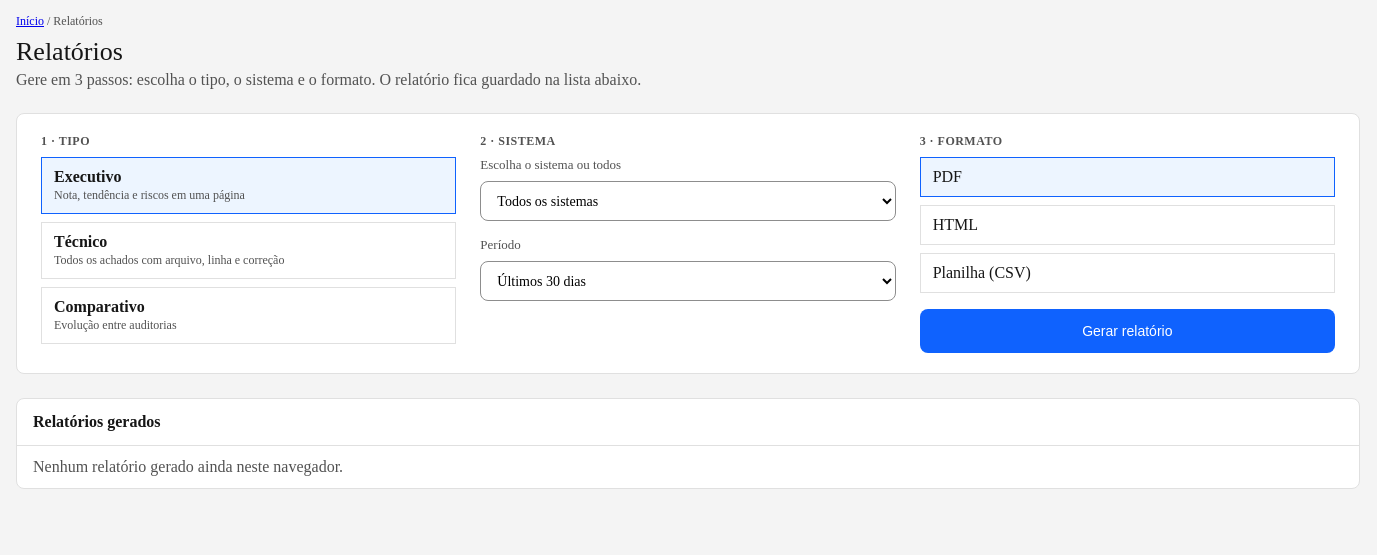
Test: ReportsPage › para um sistema usa a auditoria mais recente e libera o SBOM no técnico
Select "portal" in the dropdown labelled "Escolha o sistema ou todos": (688, 201) top-left (480, 181), bottom-right (896, 221)
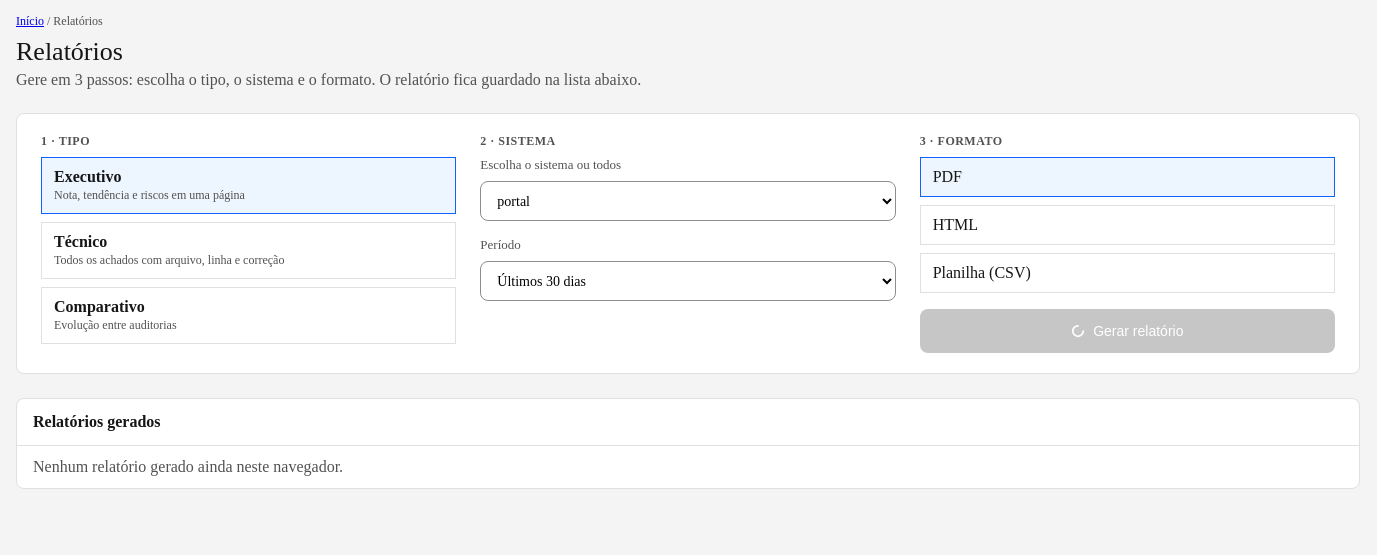
Click the button "Técnico Todos os achados com arquivo, linha e correção": (249, 250) top-left (41, 222), bottom-right (456, 279)
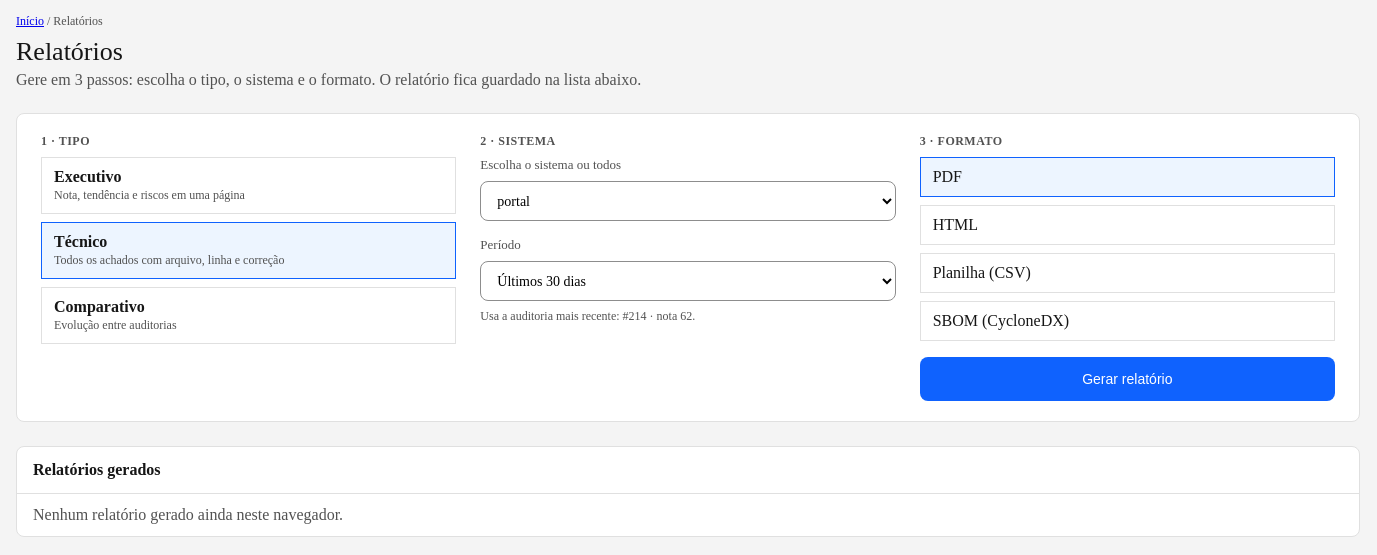
Check: the text "Usa a auditoria mais recente: #214 · nota 62." is shown, box top-left (480, 309), bottom-right (695, 323)
Click the button "SBOM (CycloneDX)": (1001, 320) top-left (920, 301), bottom-right (1335, 341)
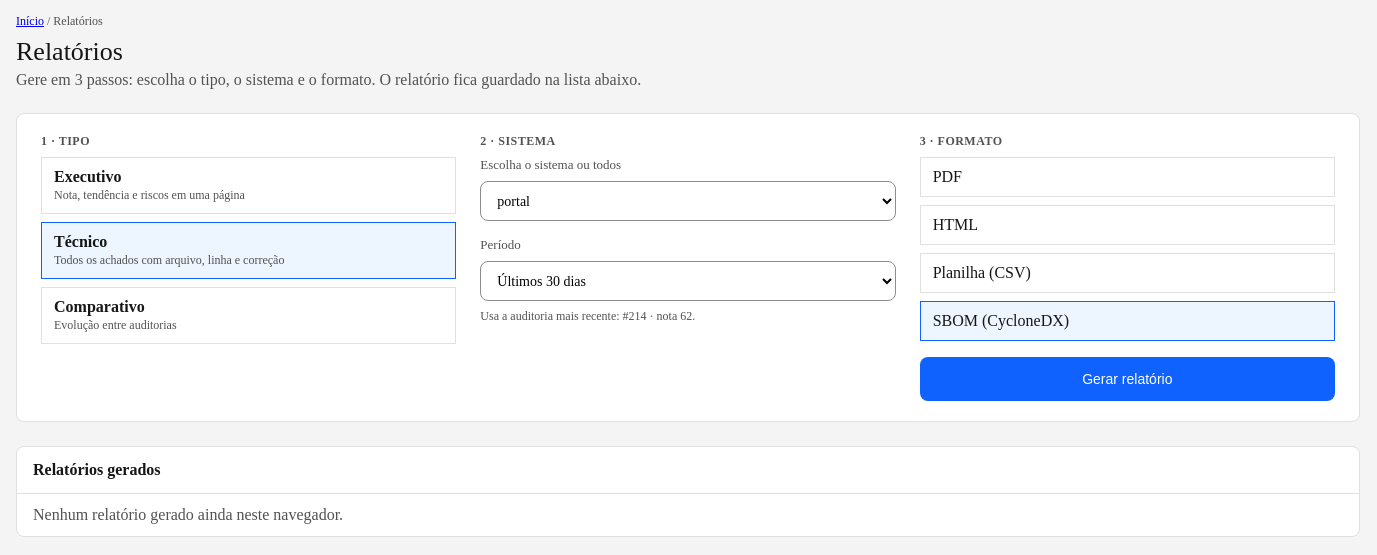
Click the button "Gerar relatório": (1127, 379) top-left (920, 357), bottom-right (1335, 401)
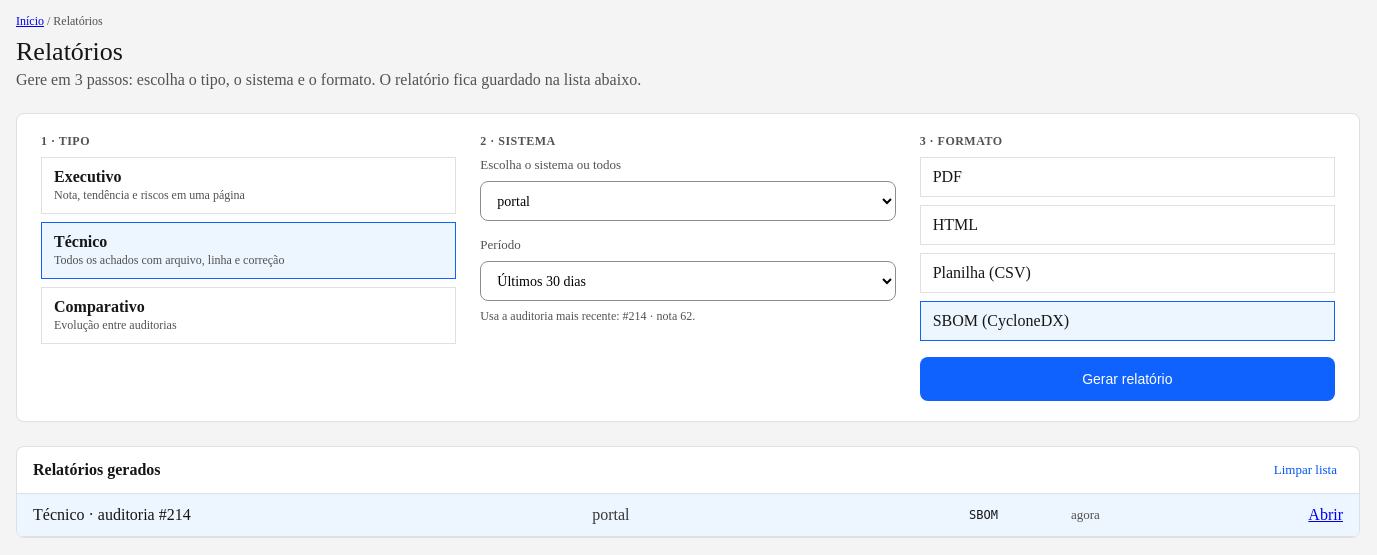
Check: the text "Técnico · auditoria #214" is shown, box top-left (33, 506), bottom-right (191, 523)
